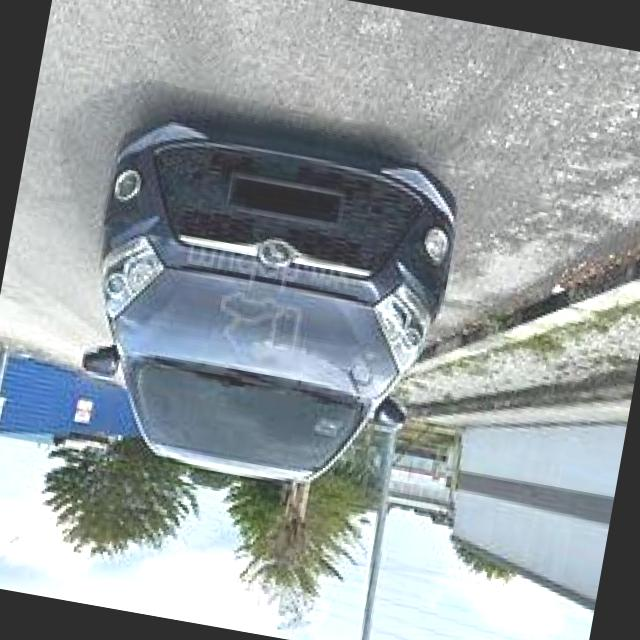PeroduaAxia: (61, 105, 469, 508)
